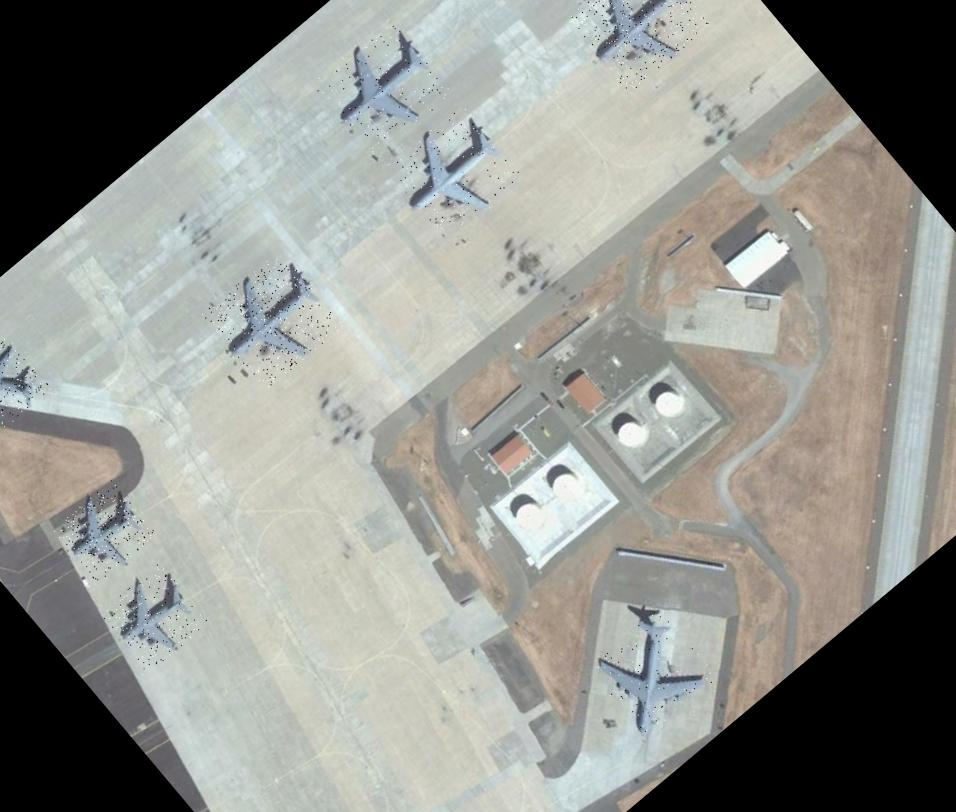A3: (99, 562, 210, 673), (52, 479, 158, 584), (0, 334, 52, 431)
A4: (202, 248, 344, 391), (312, 18, 453, 158), (384, 103, 522, 240), (585, 606, 720, 740), (566, 0, 711, 93)
